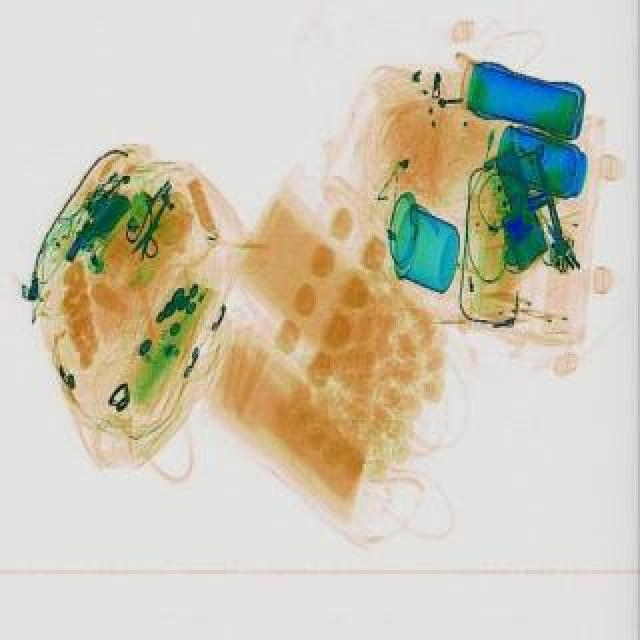pliers: (118, 194, 182, 264)
